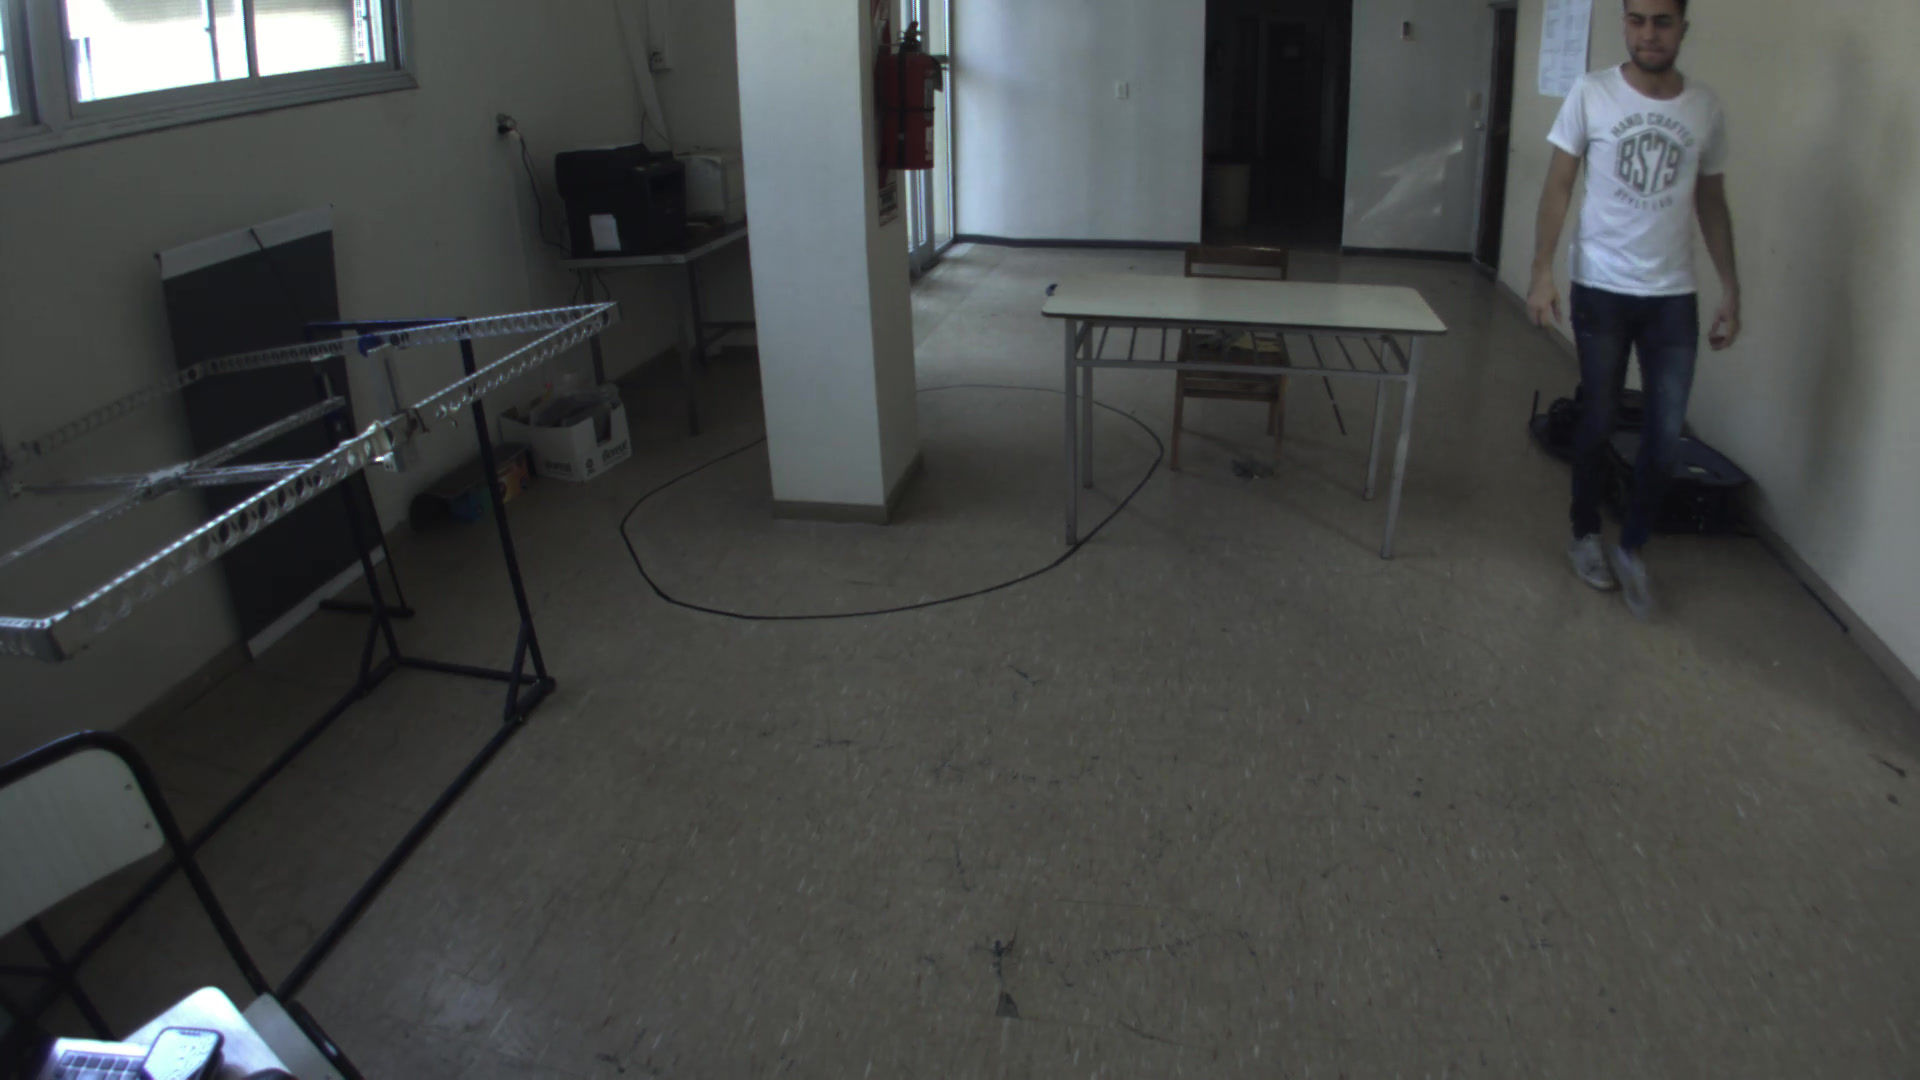hand: (1516, 272, 1578, 335), (1706, 299, 1753, 364)
